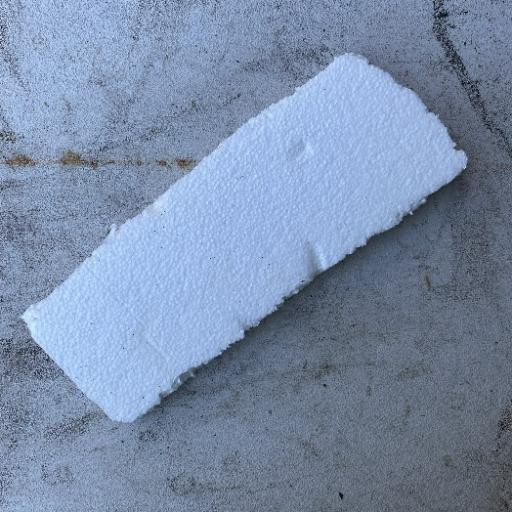Plastic: (19, 51, 469, 425)
